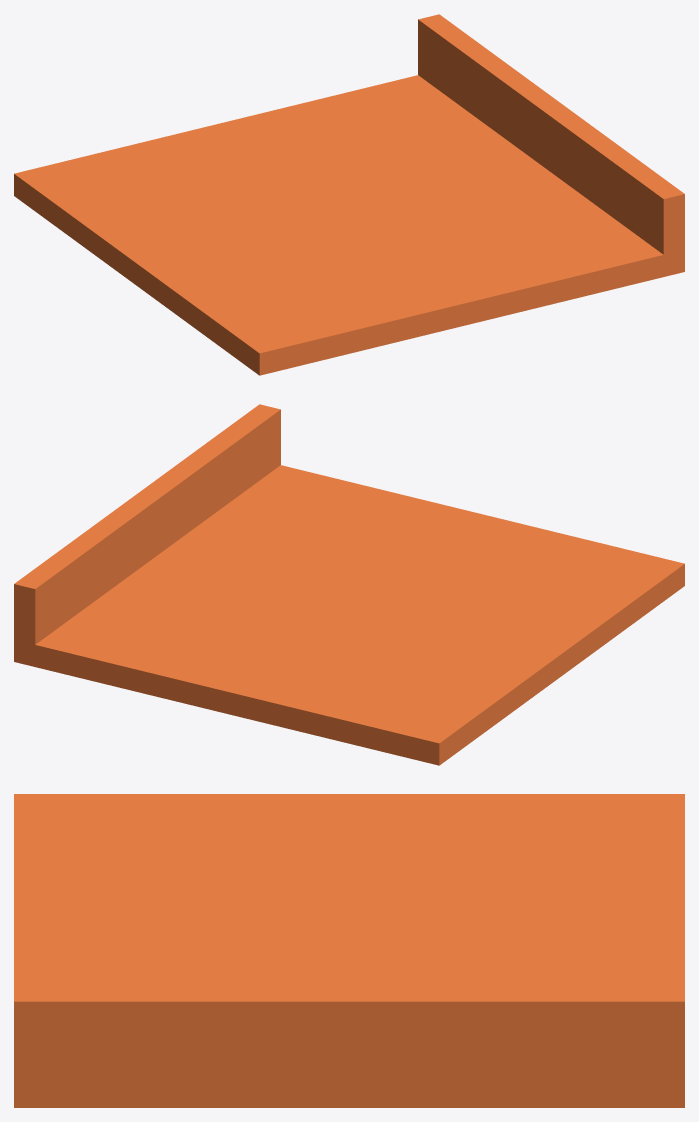
Rendered from OrangeRoof_1Edge.glb.
3 views of the same model, one above another, from view 1: azimuth 30°, elevation 25°; view 2: azimuth 150°, elevation 25°; view 3: azimuth 270°, elevation 25° (orthographic). The views are drawn at different scales.
Parts seen in each view (by area): view 1: roof_flat_1Edge_orange; view 2: roof_flat_1Edge_orange; view 3: roof_flat_1Edge_orange.
Boxes of the visible parts, box(x1,y1,x2,y2) form: roof_flat_1Edge_orange: box(14, 14, 684, 375); roof_flat_1Edge_orange: box(14, 404, 684, 765); roof_flat_1Edge_orange: box(14, 794, 684, 1107).
Size of what is drawn, in the model's own units: 4 by 0.7 by 4.
Materials: 1 (1 with a texture image).
